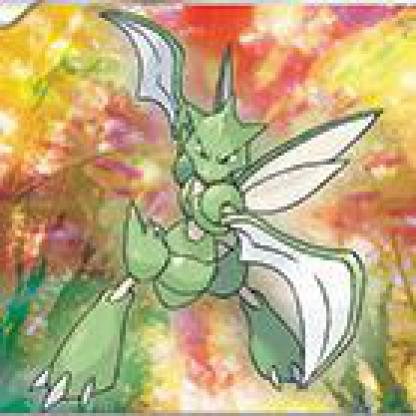Scyther: (1, 4, 414, 414)
